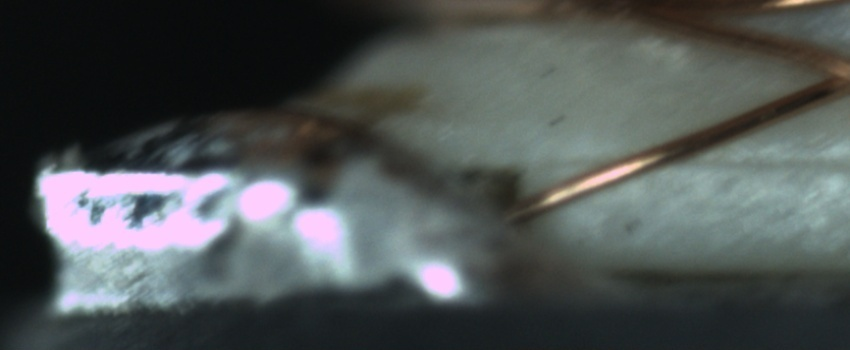CL: (797, 40, 850, 103)
DL: (572, 131, 846, 197)
